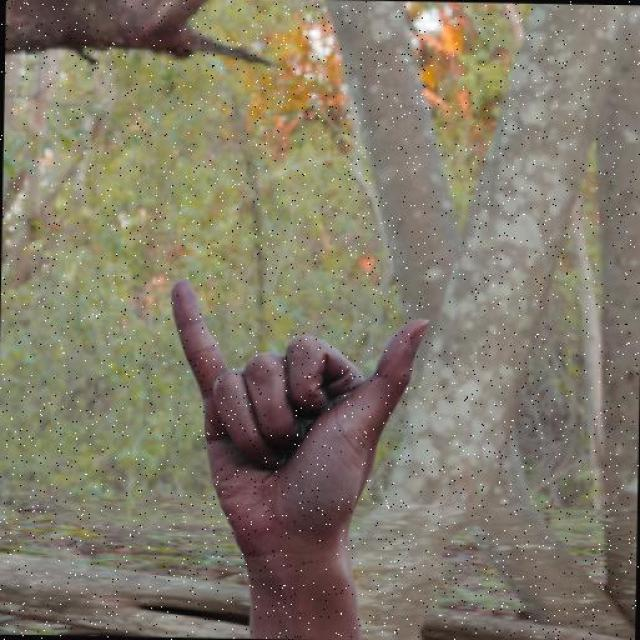Y: (151, 250, 455, 569)
